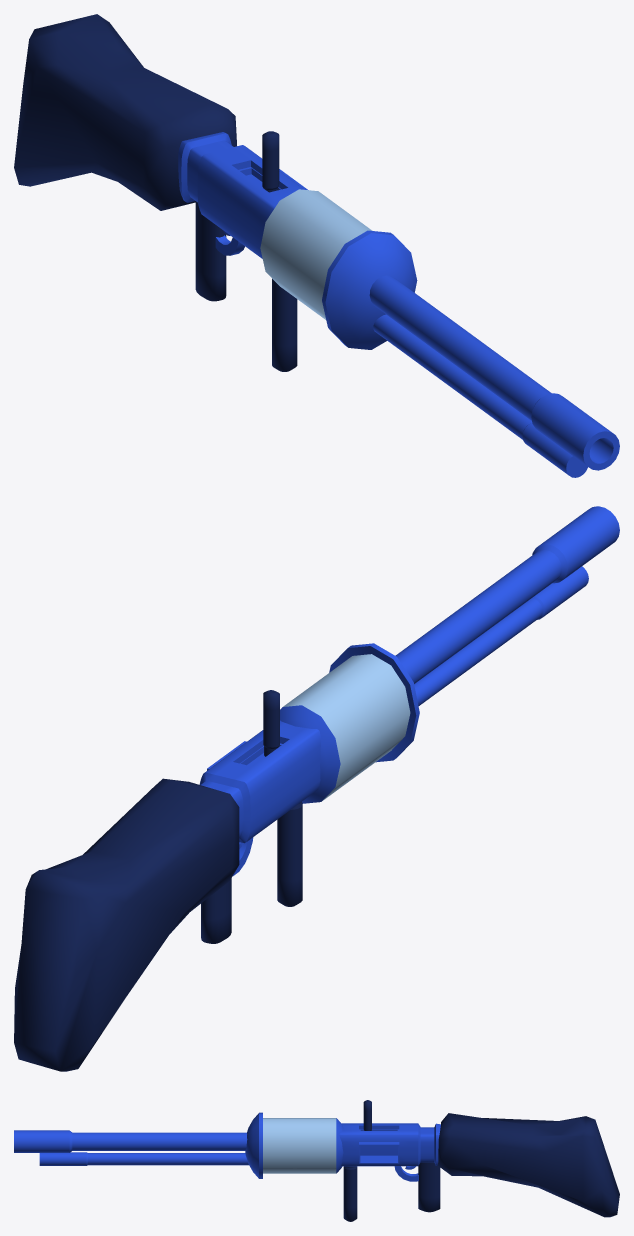
Rendered from Gun_Textured.fbx.
The picture shows the model from 3 angles, top to bottom: view 1: azimuth 30°, elevation 25°; view 2: azimuth 150°, elevation 25°; view 3: azimuth 270°, elevation 25°; orthographic projection. The views are drawn at different scales.
Parts seen in each view (by area): view 1: ChamferBox003, OilTank001, Cylinder002, ChamferBox002, Cylinder003, Cylinder005, Cylinder004, Cylinder006; view 2: ChamferBox003, OilTank001, Cylinder002, ChamferBox002, Cylinder003, Cylinder004, Cylinder005, Cylinder006; view 3: ChamferBox003, OilTank001, Cylinder002, ChamferBox002, Cylinder003, Cylinder005, Cylinder004, Cylinder006, Tube001.
Part boxes in pixels (x1=…): ChamferBox003: x1=14, y1=14, x2=236, y2=210; OilTank001: x1=260, y1=189, x2=417, y2=349; Cylinder002: x1=369, y1=275, x2=619, y2=470; ChamferBox002: x1=178, y1=132, x2=308, y2=258; Cylinder003: x1=373, y1=314, x2=587, y2=477; Cylinder005: x1=195, y1=201, x2=226, y2=301; Cylinder004: x1=272, y1=279, x2=297, y2=371; Cylinder006: x1=262, y1=131, x2=279, y2=192; ChamferBox003: x1=14, y1=778, x2=239, y2=1071; OilTank001: x1=280, y1=643, x2=419, y2=803; Cylinder002: x1=395, y1=506, x2=619, y2=683; ChamferBox002: x1=199, y1=720, x2=320, y2=843; Cylinder003: x1=414, y1=566, x2=588, y2=705; Cylinder004: x1=277, y1=802, x2=302, y2=906; Cylinder005: x1=201, y1=878, x2=231, y2=943; Cylinder006: x1=263, y1=690, x2=279, y2=756; ChamferBox003: x1=438, y1=1113, x2=619, y2=1217; OilTank001: x1=245, y1=1112, x2=343, y2=1178; Cylinder002: x1=14, y1=1130, x2=247, y2=1152; ChamferBox002: x1=339, y1=1123, x2=440, y2=1166; Cylinder003: x1=39, y1=1152, x2=248, y2=1165; Cylinder005: x1=418, y1=1162, x2=440, y2=1212; Cylinder004: x1=343, y1=1166, x2=357, y2=1221; Cylinder006: x1=363, y1=1100, x2=371, y2=1130; Tube001: x1=394, y1=1166, x2=418, y2=1181.
Size of the model in its own units: 1.32 by 3.07 by 14.07.
